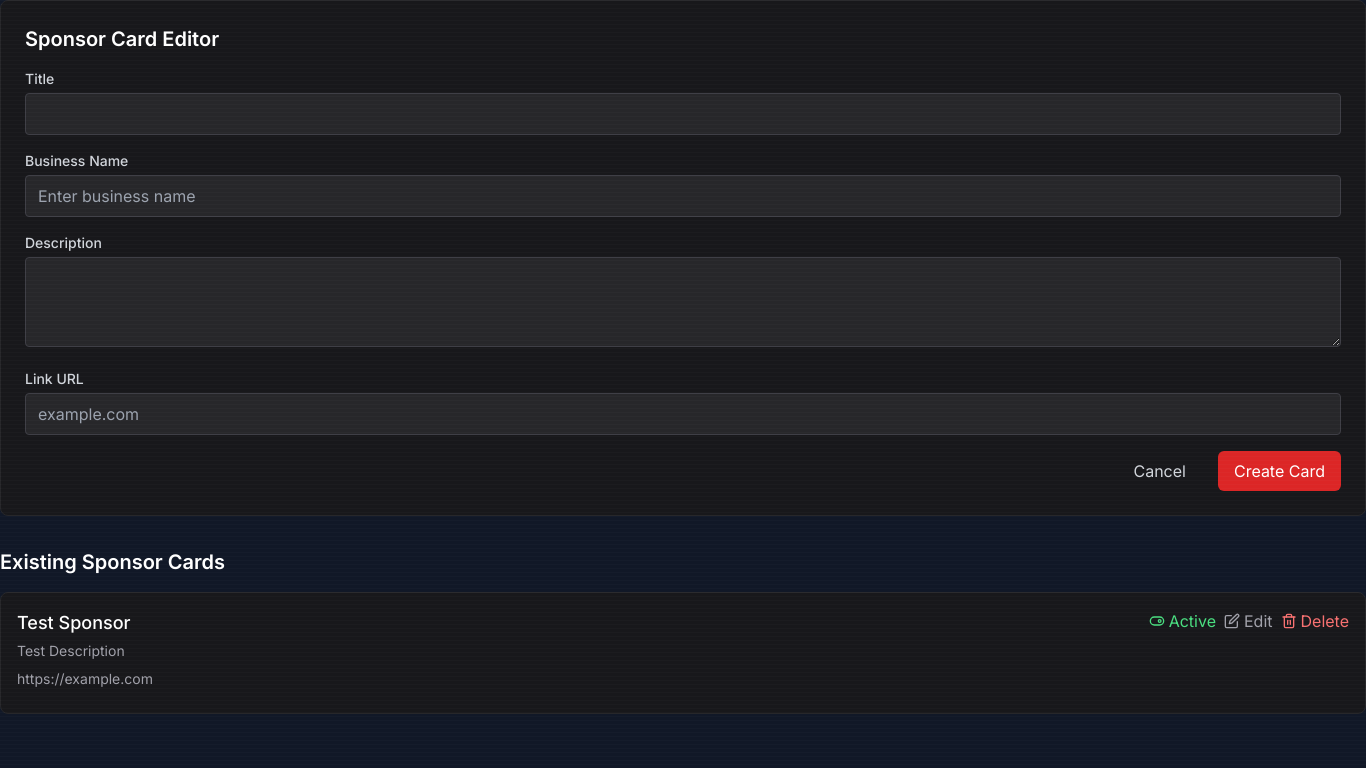
Test: SponsorCardEditor › handles sponsor card deletion
The width and height of the screenshot is (1366, 768).
Expected: the heading "Test Sponsor" is shown, [17,612,130,633]
// Click delete button
Click the button "Delete" at [1315, 621], box [1280,609,1349,633]
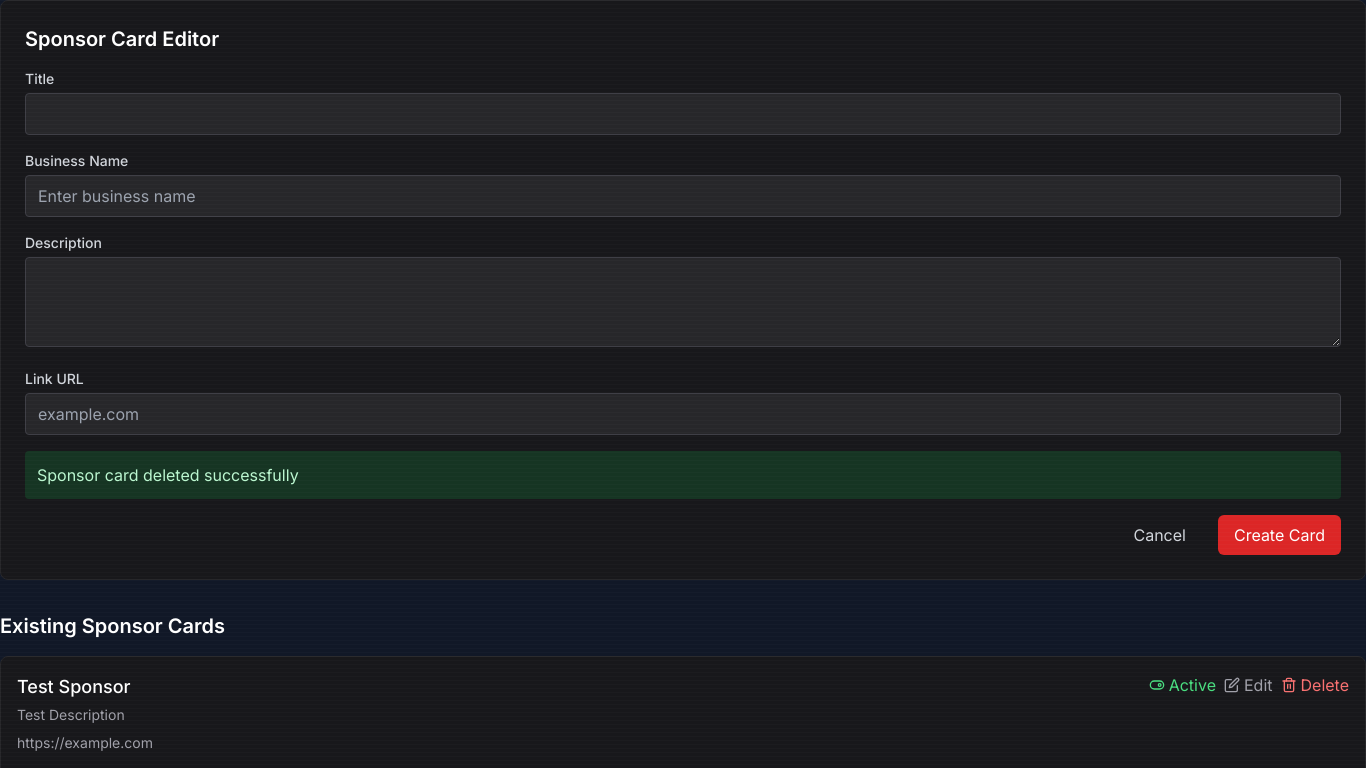
Now the text "Sponsor card deleted successfully" is shown, box [25,451,1341,499]
